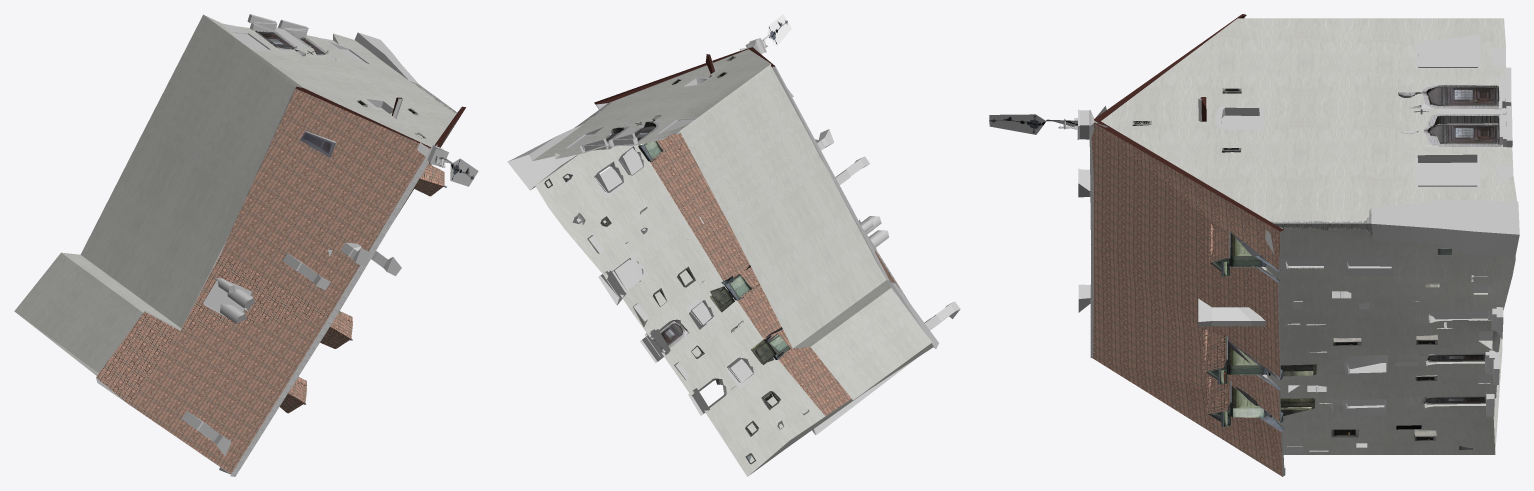
File: Vanaturu_Kael_12-origo.obj
The picture shows the model from 3 angles, left to right: view 1: azimuth 30°, elevation 25°; view 2: azimuth 150°, elevation 25°; view 3: azimuth 270°, elevation 25°; orthographic projection. The views are drawn at different scales.
Visible parts, largest first — view 1: Vanaturu_Kael_12; view 2: Vanaturu_Kael_12; view 3: Vanaturu_Kael_12.
Part boxes in pixels (x1,y1,x2,y2): Vanaturu_Kael_12: [14, 14, 478, 476]; Vanaturu_Kael_12: [507, 14, 960, 476]; Vanaturu_Kael_12: [989, 14, 1519, 476].
Size of the model in its own units: 29.38 by 28 by 26.9.
